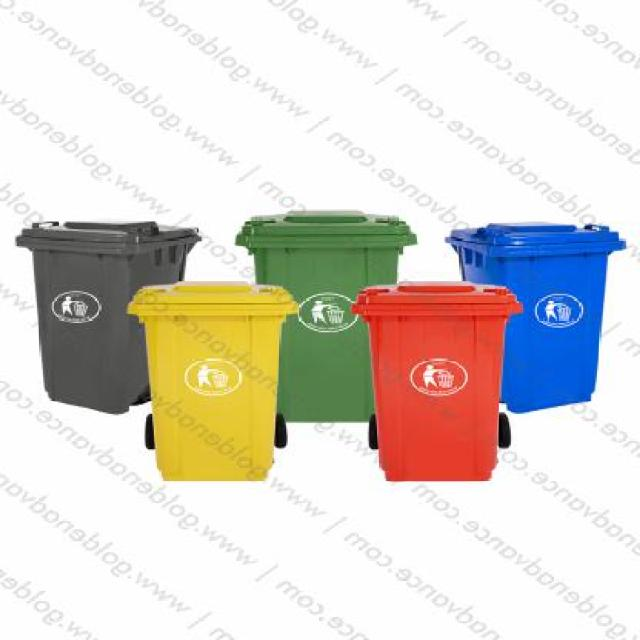garbage container: (5, 216, 209, 419), (232, 206, 420, 426), (122, 274, 304, 488), (345, 280, 524, 488), (445, 218, 632, 416)
